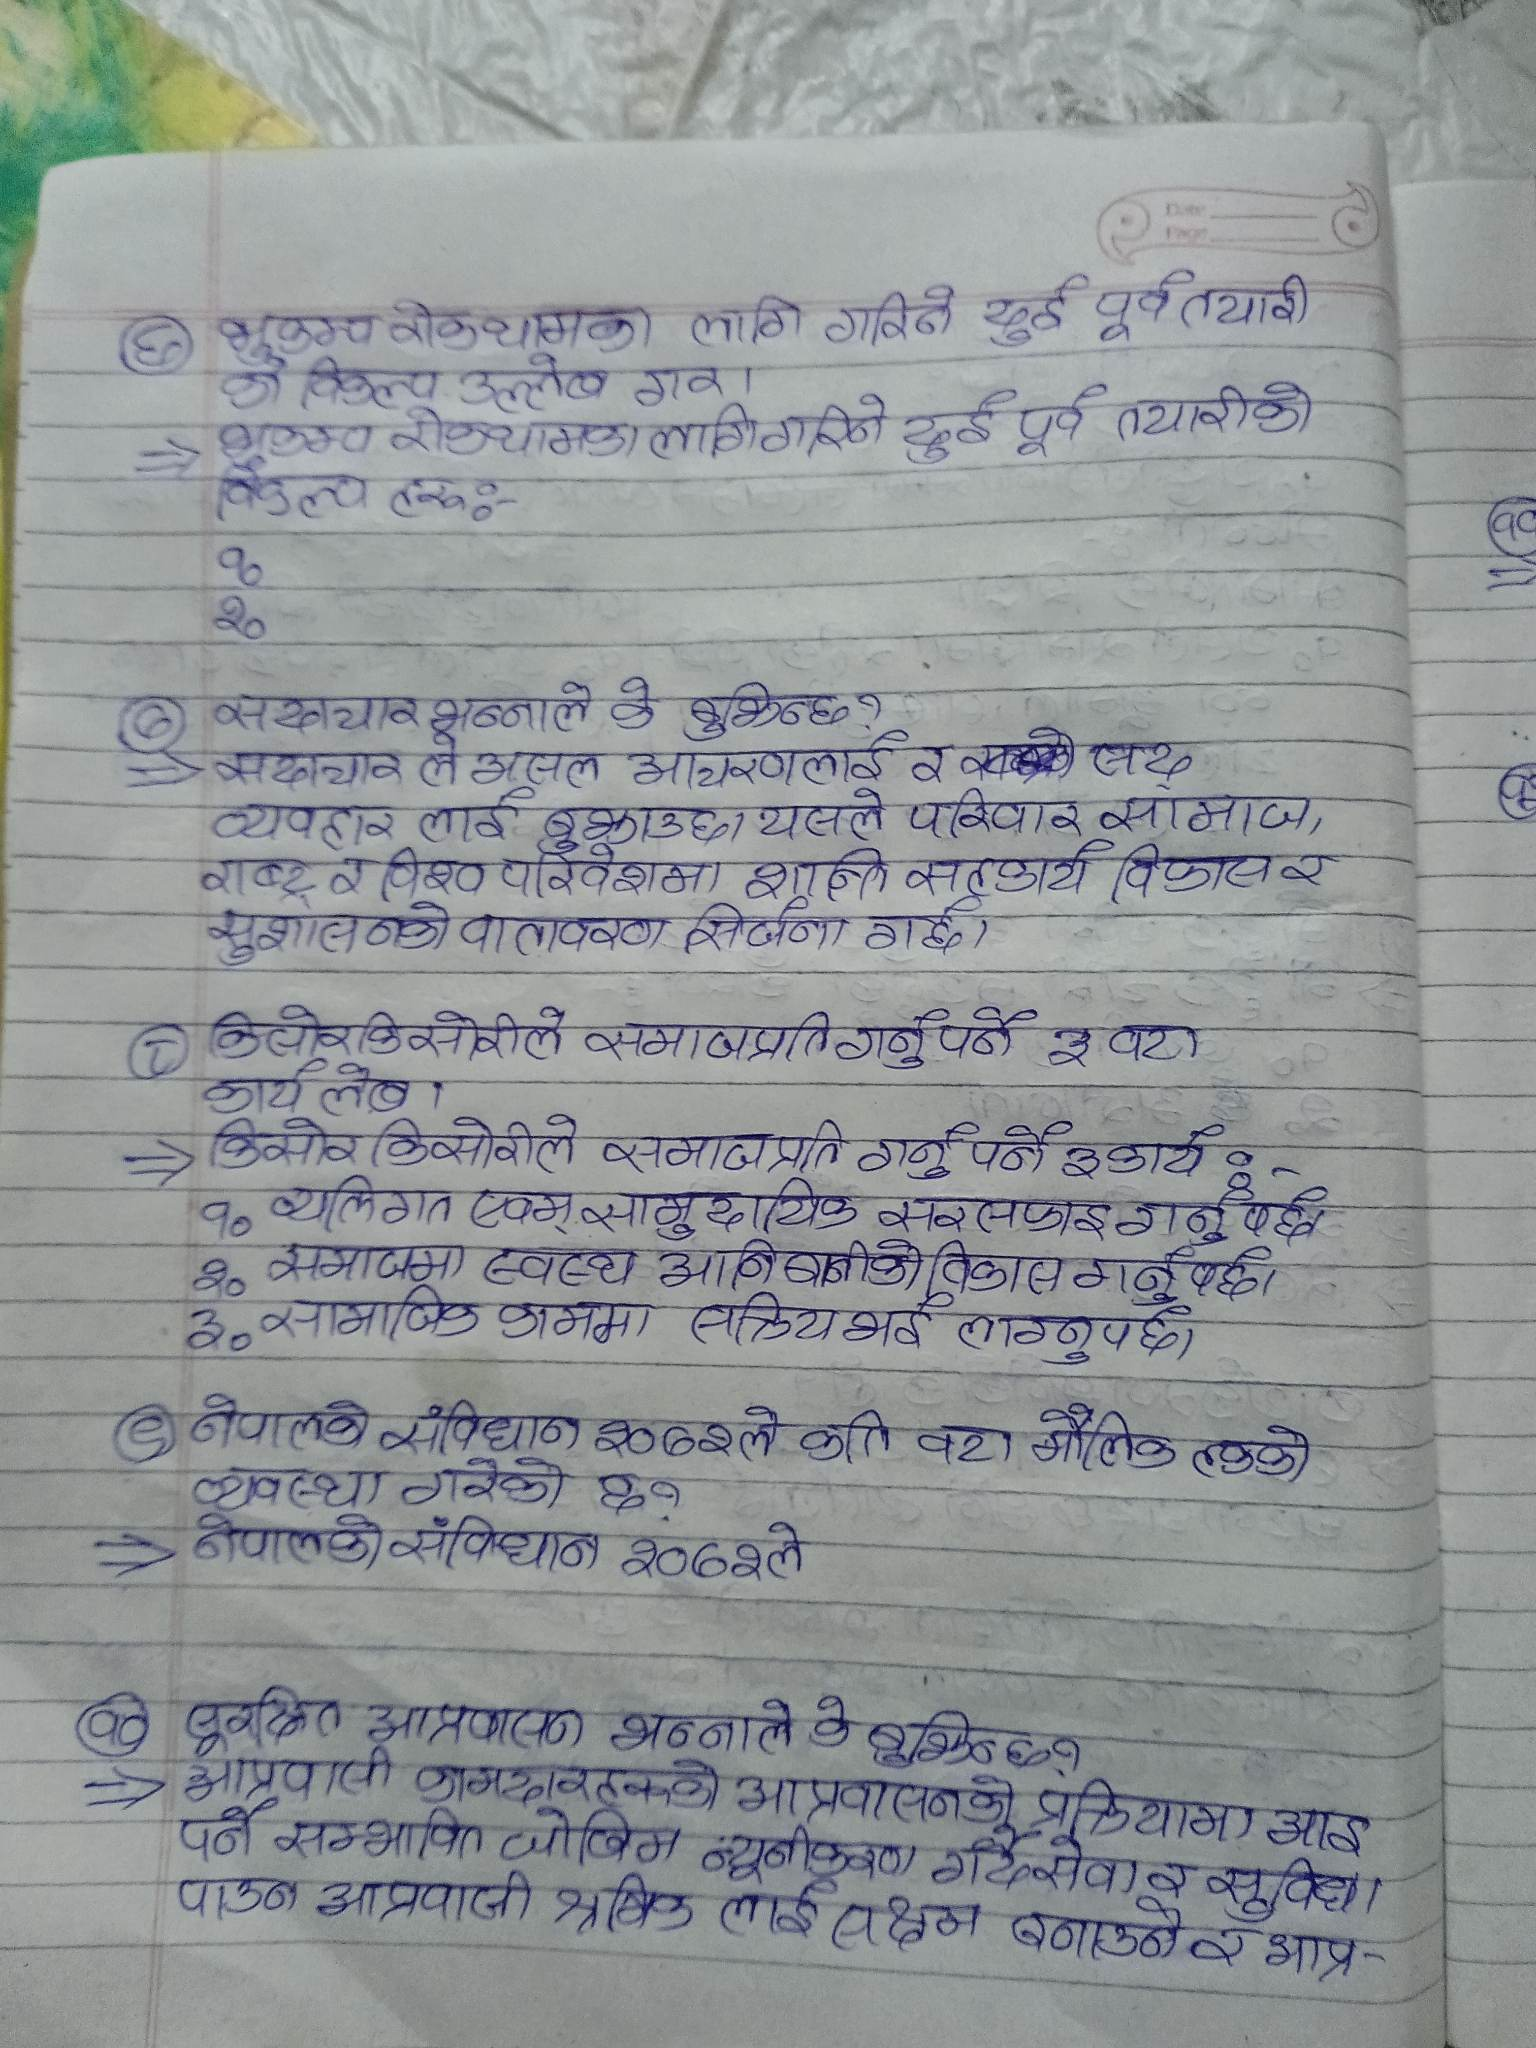text: (202, 1005, 568, 1056), (579, 1177, 860, 1235), (626, 735, 904, 792), (734, 1771, 1016, 1825), (836, 1001, 1041, 1072), (411, 1759, 716, 1804), (1029, 1780, 1254, 1842), (904, 837, 1117, 901), (210, 905, 449, 961), (316, 1867, 534, 1929), (655, 1242, 921, 1292), (1120, 376, 1318, 442), (582, 1013, 834, 1063), (390, 1516, 600, 1576), (260, 1287, 481, 1343), (962, 1306, 1187, 1361), (603, 1122, 842, 1174), (274, 1804, 486, 1863), (378, 1392, 582, 1451), (1071, 1247, 1279, 1305), (390, 410, 639, 458), (190, 1513, 382, 1574), (1120, 1188, 1331, 1243), (369, 1114, 579, 1169), (760, 384, 892, 469), (499, 1804, 682, 1866), (699, 1829, 916, 1880), (186, 1743, 387, 1796), (865, 1709, 1049, 1767), (265, 1174, 453, 1230), (500, 848, 713, 898), (684, 898, 850, 961), (1205, 1858, 1362, 1924), (479, 293, 657, 352), (365, 1698, 584, 1745), (257, 1238, 466, 1287), (611, 1700, 795, 1755), (186, 1393, 368, 1448), (203, 302, 386, 356), (878, 1193, 1110, 1235), (457, 910, 663, 956), (674, 681, 850, 735), (210, 693, 421, 739), (216, 464, 371, 526), (1029, 1403, 1176, 1467), (1183, 268, 1315, 339), (552, 1872, 695, 1937), (205, 800, 395, 848), (177, 1687, 345, 1742), (1013, 1903, 1179, 1958), (1121, 837, 1270, 898), (399, 1455, 563, 1509), (1100, 789, 1313, 830), (190, 1464, 381, 1508), (902, 792, 1091, 835), (1187, 1422, 1313, 1487), (210, 747, 403, 789), (537, 803, 716, 848), (460, 358, 611, 411), (829, 289, 957, 352), (829, 1898, 979, 1950), (904, 392, 1015, 461), (620, 1530, 762, 1584), (429, 684, 591, 731), (981, 271, 1083, 345), (741, 850, 891, 900), (213, 1114, 357, 1166), (753, 789, 891, 842), (1016, 381, 1108, 460), (294, 356, 444, 405), (691, 1295, 836, 1343), (479, 1240, 641, 1284), (219, 419, 374, 464), (716, 1879, 821, 1943), (499, 1300, 653, 1343), (200, 1059, 323, 1114), (929, 1242, 1062, 1292), (595, 1417, 733, 1463), (415, 790, 532, 842), (1033, 1835, 1134, 1895), (1096, 269, 1179, 340), (842, 1297, 945, 1353), (174, 1872, 302, 1917), (1084, 737, 1199, 787), (692, 298, 810, 347), (171, 1801, 266, 1861), (389, 300, 481, 358), (650, 410, 757, 460), (473, 745, 599, 787), (466, 1184, 574, 1232), (933, 1835, 1028, 1890), (860, 1126, 963, 1176), (1263, 1804, 1367, 1854), (866, 903, 965, 955), (1104, 1127, 1208, 1176), (319, 1058, 411, 1113), (382, 848, 486, 897), (1263, 1929, 1357, 1982), (207, 858, 316, 901), (799, 1411, 894, 1461), (913, 1421, 1015, 1467), (387, 469, 468, 527), (1108, 1021, 1204, 1068), (975, 1122, 1058, 1174), (207, 590, 278, 650), (219, 356, 281, 414), (634, 364, 728, 402), (184, 1306, 252, 1355), (1192, 1922, 1254, 1974), (805, 1692, 855, 1751), (215, 537, 276, 585), (603, 676, 657, 729), (766, 1517, 807, 1587), (194, 1198, 253, 1242), (187, 1258, 248, 1300), (1142, 1856, 1196, 1900), (741, 1401, 778, 1463), (421, 737, 461, 792), (1284, 848, 1334, 892), (1052, 1024, 1097, 1071), (599, 1471, 644, 1517), (912, 745, 949, 792), (328, 860, 366, 898), (1063, 1140, 1099, 1180)
